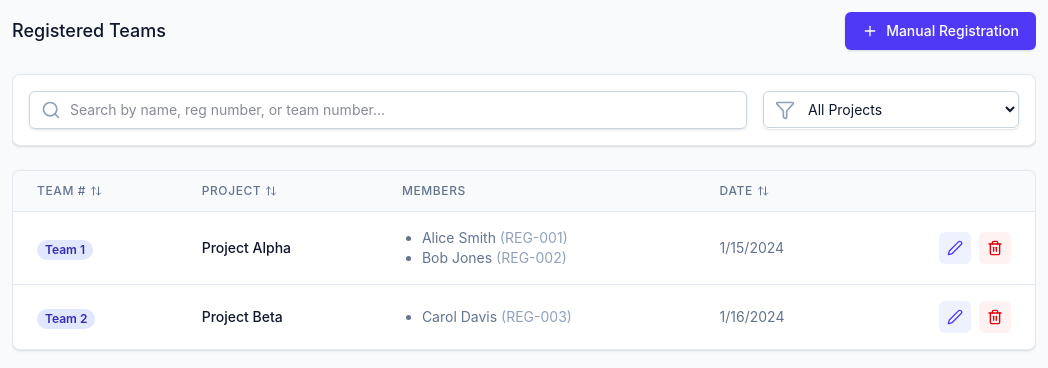
Test: TeamsPanel › search by member name filters results
Expected: the list item "Alice Smith" is shown, [422,229,496,246]
Expected: the list item "Carol Davis" is shown, [422,308,497,325]
Type "Alice" into the field with placeholder "Search by name, reg number, or team number..." at point(388, 110), box [29,91,747,129]
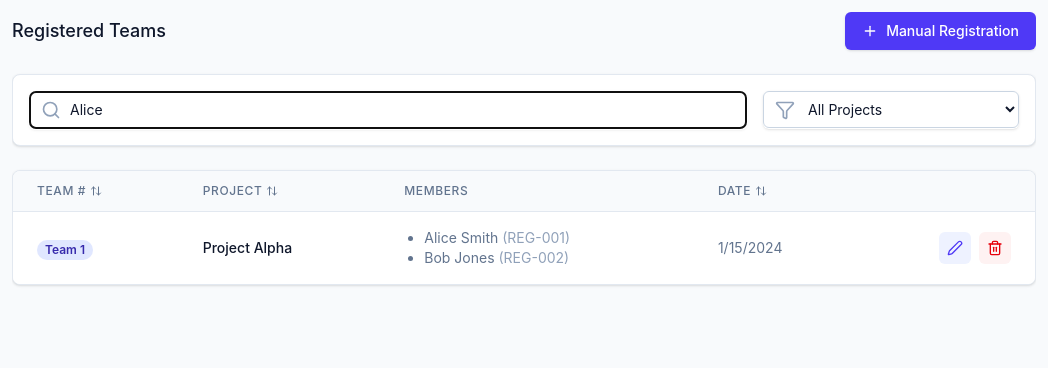
Expected: the list item "Alice Smith" is shown, [424,229,498,246]
Now the list item "Carol Davis" is gone
